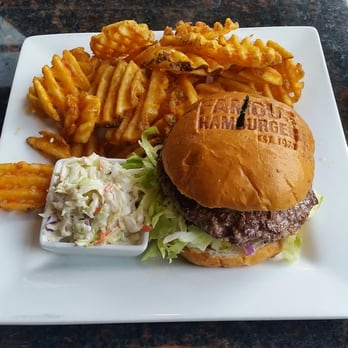hamburger: (164, 94, 322, 268)
